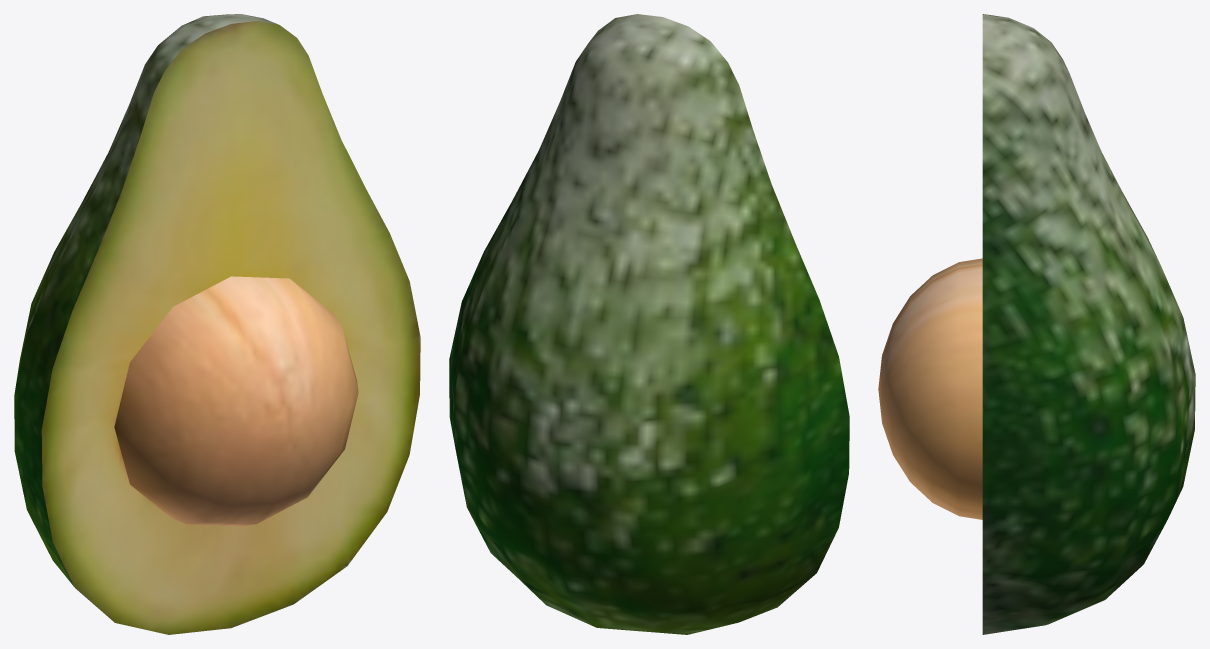
File: Avocado_half.fbx
3 renders of one model, left to right at view 1: azimuth 30°, elevation 25°; view 2: azimuth 150°, elevation 25°; view 3: azimuth 270°, elevation 25°, orthographic. The views are drawn at different scales.
Parts seen in each view (by area): view 1: Avocado_half; view 2: Avocado_half; view 3: Avocado_half.
Boxes of the visible parts, x1=… form: Avocado_half: x1=14, y1=14, x2=420, y2=634; Avocado_half: x1=449, y1=14, x2=849, y2=634; Avocado_half: x1=878, y1=14, x2=1195, y2=634.
Bounding box in the file's own units: 12.36 × 18.83 × 9.21.
